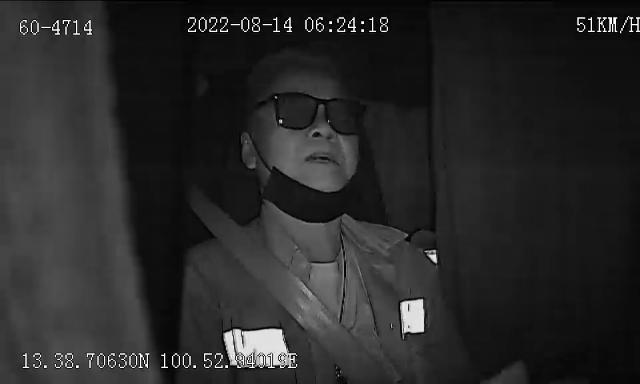Seatbelt: (189, 190, 393, 384)
